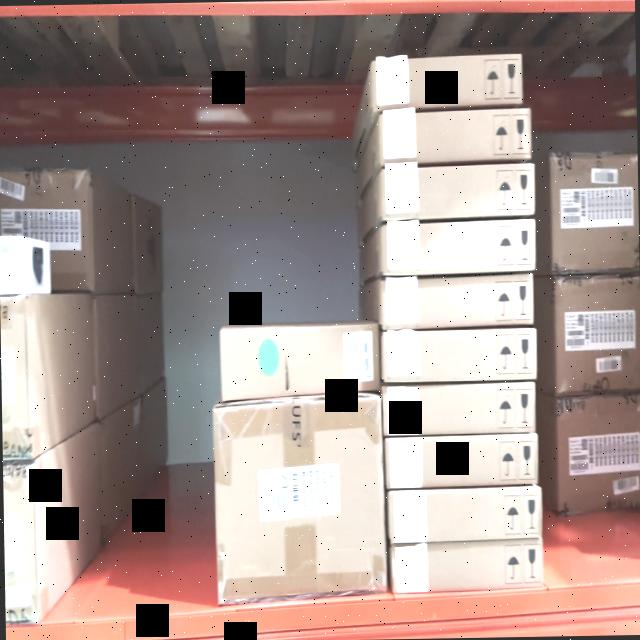box: (212, 397, 386, 600), (546, 154, 639, 268), (550, 275, 640, 391), (554, 395, 640, 511), (220, 330, 378, 390), (380, 165, 534, 219), (386, 486, 540, 540), (378, 108, 530, 162), (380, 272, 532, 326), (372, 55, 524, 107), (384, 383, 535, 434), (382, 220, 534, 270), (384, 332, 536, 379), (385, 437, 537, 483), (390, 542, 543, 584)
